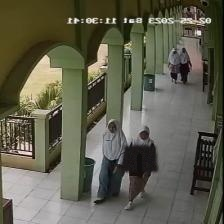Cadar_Niqab: (122, 132, 157, 171)
